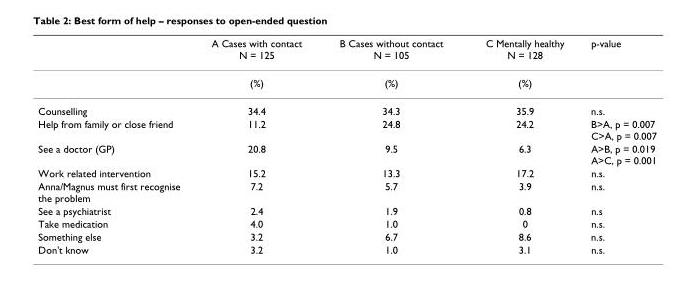table: (37, 36, 655, 255)
table column: (37, 36, 195, 255), (319, 36, 463, 255), (195, 36, 319, 255), (463, 36, 576, 255), (576, 36, 655, 255)
table column header: (37, 36, 655, 68)
table row: (37, 36, 655, 68), (37, 68, 655, 96), (37, 141, 655, 166), (37, 117, 655, 141), (37, 179, 655, 203), (37, 96, 655, 117), (37, 166, 655, 179), (37, 203, 655, 216), (37, 216, 655, 229), (37, 229, 655, 242), (37, 242, 655, 255)
